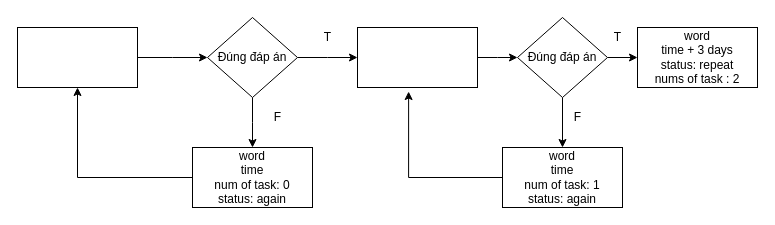
The diagram is 775 pixels wide and 225 high, and some of its shapes have lost their labels. The centre of each missing label's shape, as x and y in pixels:
"word time + 1 days status: repeat nums of task : 1" belongs at (417,57).
"word time status: answer num of task : 0" belongs at (77,57).
